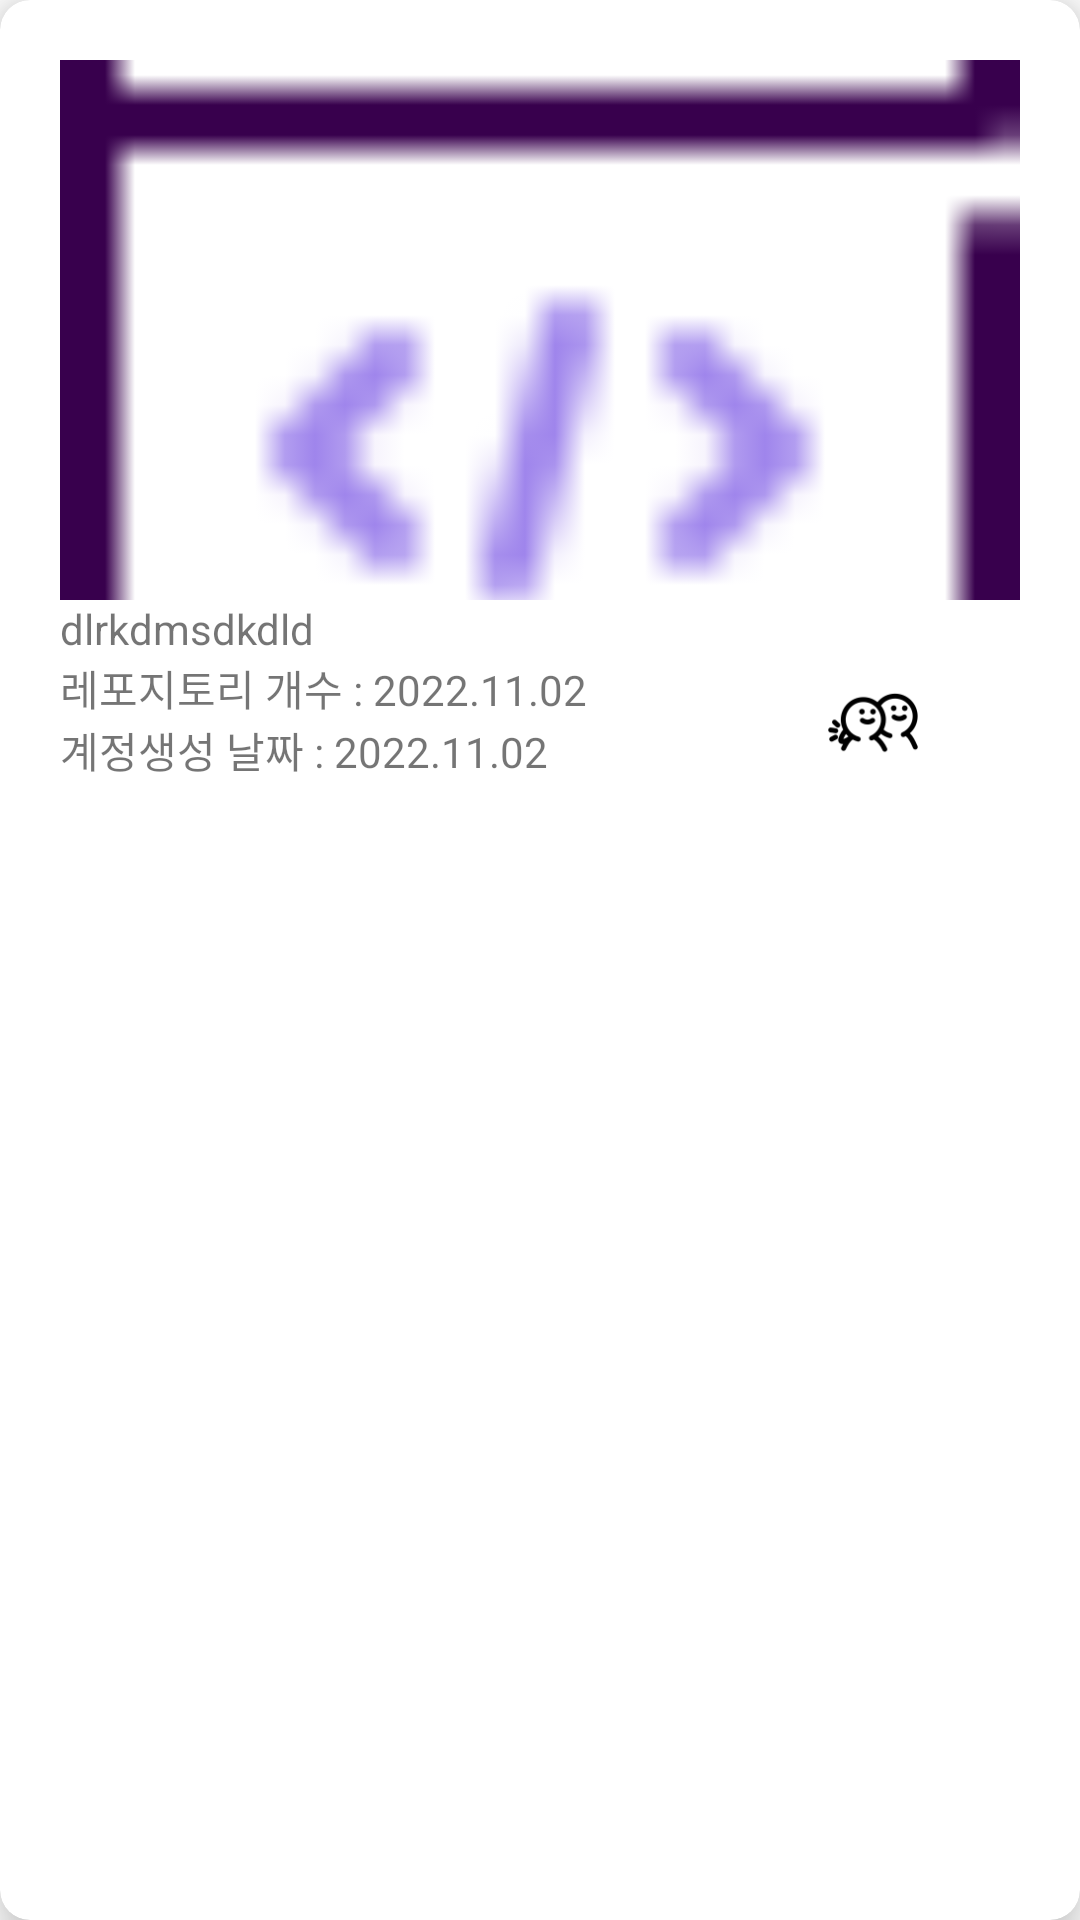

Screen size 1080 × 1920. Icon name, then its center in pixels as (x,y):
friend: (873,722)
